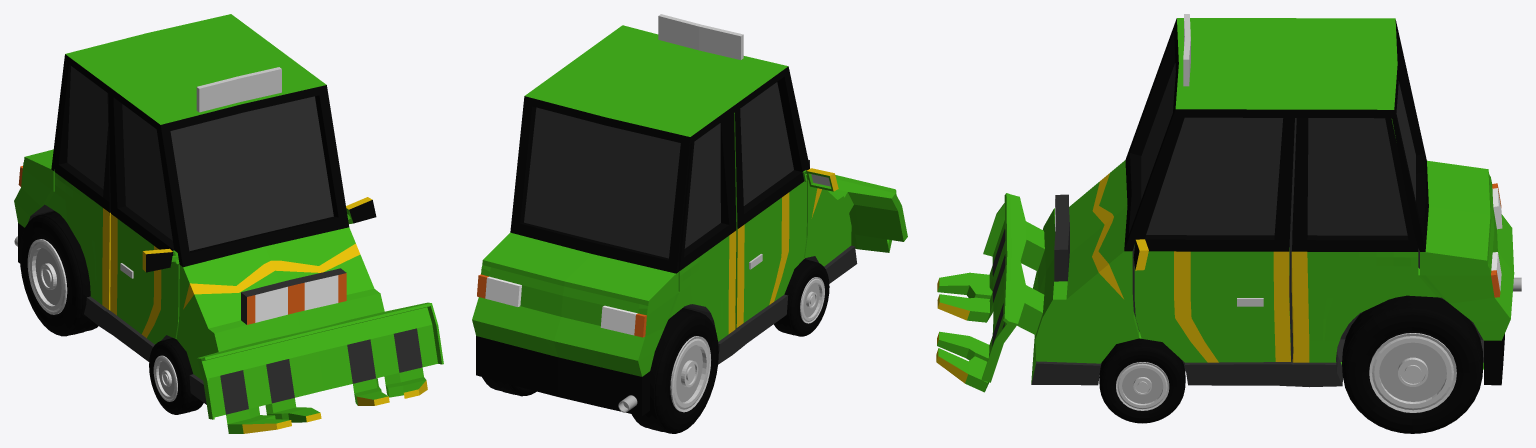
3 renders of one model, left to right at view 1: azimuth 30°, elevation 25°; view 2: azimuth 150°, elevation 25°; view 3: azimuth 270°, elevation 25°, orthographic. The views are drawn at different scales.
Visible parts, largest first — view 1: BODY27, WHEEL.002, WHEEL.001; view 2: BODY27, WHEEL.002, WHEEL.001, WHEEL.004; view 3: BODY27, WHEEL.004, WHEEL.003.
Boxes of the visible parts, left/top/right/bottom form: BODY27: left=14, top=14, right=443, bottom=433; WHEEL.002: left=19, top=211, right=98, bottom=336; WHEEL.001: left=149, top=338, right=203, bottom=414; BODY27: left=472, top=14, right=907, bottom=416; WHEEL.002: left=631, top=308, right=718, bottom=433; WHEEL.001: left=773, top=259, right=829, bottom=336; WHEEL.004: left=482, top=377, right=536, bottom=396; BODY27: left=936, top=14, right=1514, bottom=392; WHEEL.004: left=1342, top=295, right=1483, bottom=433; WHEEL.003: left=1099, top=338, right=1185, bottom=423.
Size of the model in its own units: 136 by 174 by 265.
